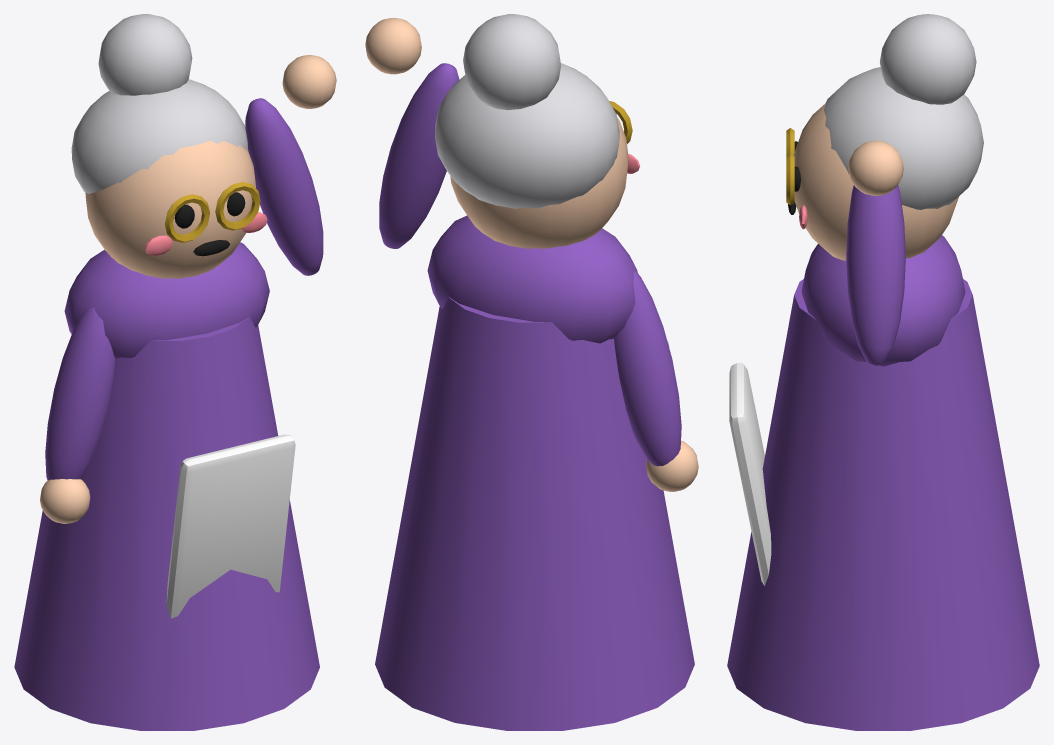
Rendered from bubbe.glb.
3 renders of one model, left to right at view 1: azimuth 30°, elevation 25°; view 2: azimuth 150°, elevation 25°; view 3: azimuth 270°, elevation 25°, orthographic. The views are drawn at different scales.
Parts seen in each view (by area): view 1: Bubbe_body, Arm_Wave; view 2: Bubbe_body, Arm_Wave; view 3: Bubbe_body, Arm_Wave.
Part boxes in pixels (bbox=[...]): Bubbe_body: bbox=[14, 14, 319, 730]; Arm_Wave: bbox=[245, 55, 336, 275]; Bubbe_body: bbox=[375, 14, 698, 730]; Arm_Wave: bbox=[365, 17, 459, 248]; Bubbe_body: bbox=[727, 14, 1039, 730]; Arm_Wave: bbox=[846, 140, 905, 367].
Size of the model in its own units: 0.955 by 2 by 0.84.
